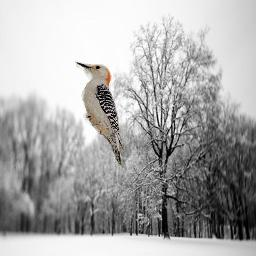Woodpecker: (75, 57, 128, 171)
